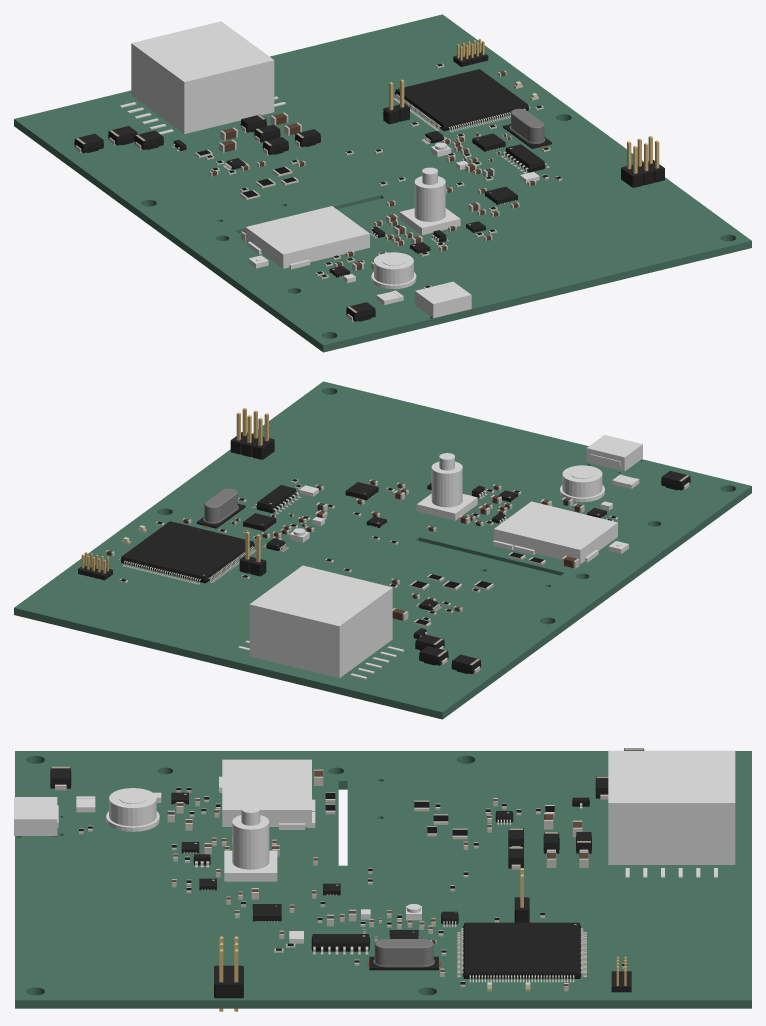
File: board-3d.glb
3 renders of one model, top to bottom at view 1: azimuth 30°, elevation 25°; view 2: azimuth 150°, elevation 25°; view 3: azimuth 270°, elevation 25°, orthographic. The views are drawn at different scales.
Parts seen in each view (by area): view 1: =>[0:1:1:78], =>[0:1:1:65], =>[0:1:1:11], =>[0:1:1:75], =>[0:1:1:47], =>[0:1:1:45], =>[0:1:1:53], =>[0:1:1:55], =>[0:1:1:39], =>[0:1:1:15], =>[0:1:1:31], =>[0:1:1:77]; view 2: =>[0:1:1:78], =>[0:1:1:65], =>[0:1:1:11], =>[0:1:1:75], =>[0:1:1:47], =>[0:1:1:45], =>[0:1:1:53], =>[0:1:1:55], =>[0:1:1:39], =>[0:1:1:15], =>[0:1:1:31], =>[0:1:1:77]; view 3: =>[0:1:1:78], =>[0:1:1:65], =>[0:1:1:11], =>[0:1:1:75], =>[0:1:1:47], =>[0:1:1:39], =>[0:1:1:55], =>[0:1:1:53], =>[0:1:1:45], =>[0:1:1:15], =>[0:1:1:77], =>[0:1:1:51] (+2 smaller).
Part boxes in pixels (box(x1,y1,x2,y2)): =>[0:1:1:78]: box(14, 14, 751, 352); =>[0:1:1:65]: box(119, 21, 285, 134); =>[0:1:1:11]: box(393, 69, 530, 132); =>[0:1:1:75]: box(245, 206, 369, 268); =>[0:1:1:47]: box(399, 167, 460, 235); =>[0:1:1:45]: box(621, 136, 664, 187); =>[0:1:1:53]: box(415, 281, 471, 318); =>[0:1:1:55]: box(371, 252, 416, 289); =>[0:1:1:39]: box(503, 108, 551, 148); =>[0:1:1:15]: box(501, 144, 549, 173); =>[0:1:1:31]: box(383, 79, 409, 124); =>[0:1:1:77]: box(453, 39, 488, 66); =>[0:1:1:78]: box(14, 381, 751, 719); =>[0:1:1:65]: box(238, 565, 404, 679); =>[0:1:1:11]: box(119, 521, 256, 584); =>[0:1:1:75]: box(494, 501, 617, 564); =>[0:1:1:47]: box(416, 453, 477, 520); =>[0:1:1:45]: box(230, 408, 274, 459); =>[0:1:1:53]: box(586, 435, 642, 471); =>[0:1:1:55]: box(560, 465, 604, 502); =>[0:1:1:39]: box(196, 488, 245, 528); =>[0:1:1:15]: box(252, 485, 300, 514); =>[0:1:1:31]: box(239, 531, 266, 576); =>[0:1:1:77]: box(78, 552, 112, 580); =>[0:1:1:78]: box(15, 751, 751, 1008); =>[0:1:1:65]: box(608, 750, 735, 877); =>[0:1:1:11]: box(457, 922, 586, 982); =>[0:1:1:75]: box(222, 759, 311, 826); =>[0:1:1:47]: box(224, 805, 277, 881); =>[0:1:1:39]: box(367, 939, 440, 970); =>[0:1:1:55]: box(106, 788, 159, 831); =>[0:1:1:53]: box(14, 797, 58, 835); =>[0:1:1:45]: box(214, 936, 243, 1011); =>[0:1:1:15]: box(311, 934, 369, 954); =>[0:1:1:77]: box(611, 956, 631, 992); =>[0:1:1:51]: box(252, 904, 281, 921).
Size of the model in its own units: 0.1 by 0.015 by 0.1252.
